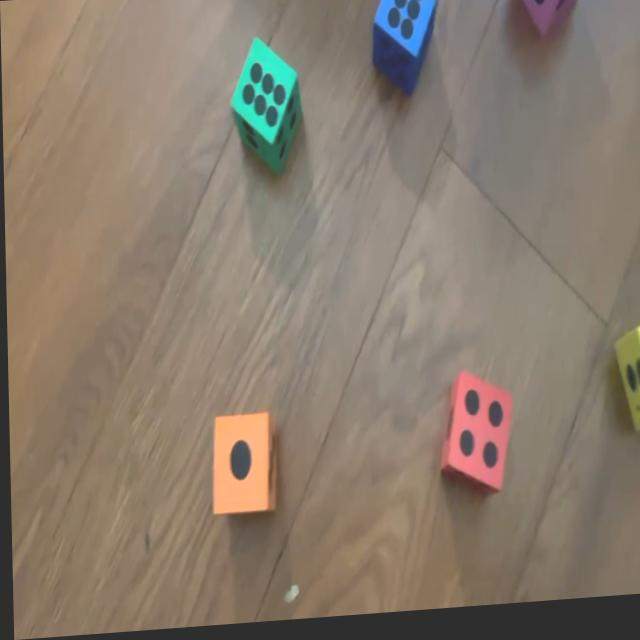blue_block: (372, 0, 442, 100)
red_block: (437, 373, 510, 501)
